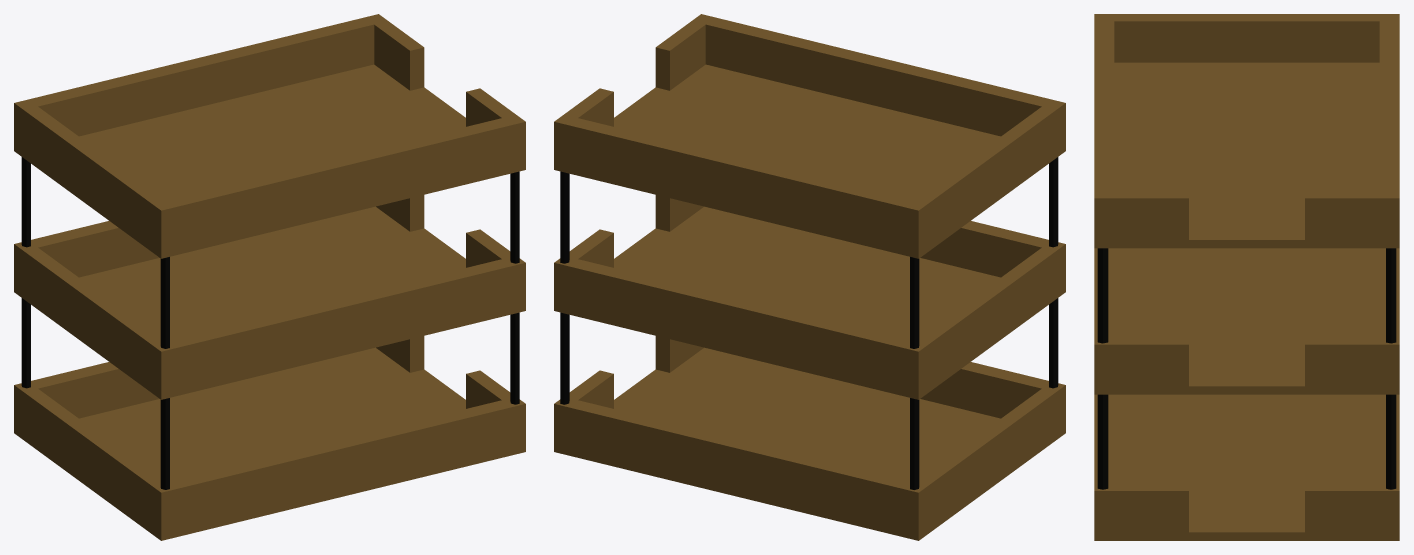
Rendered from SM_PaperTray.fbx.
3 renders of one model, left to right at view 1: azimuth 30°, elevation 25°; view 2: azimuth 150°, elevation 25°; view 3: azimuth 270°, elevation 25°, orthographic. The views are drawn at different scales.
Parts seen in each view (by area): view 1: SM_PaperTray; view 2: SM_PaperTray; view 3: SM_PaperTray.
Part boxes in pixels (box(x1,y1,x2,y2)): SM_PaperTray: box(14, 14, 525, 540); SM_PaperTray: box(554, 14, 1065, 540); SM_PaperTray: box(1094, 14, 1399, 540).
Bounding box in the file's own units: 46.18 × 39.98 × 32.29.
